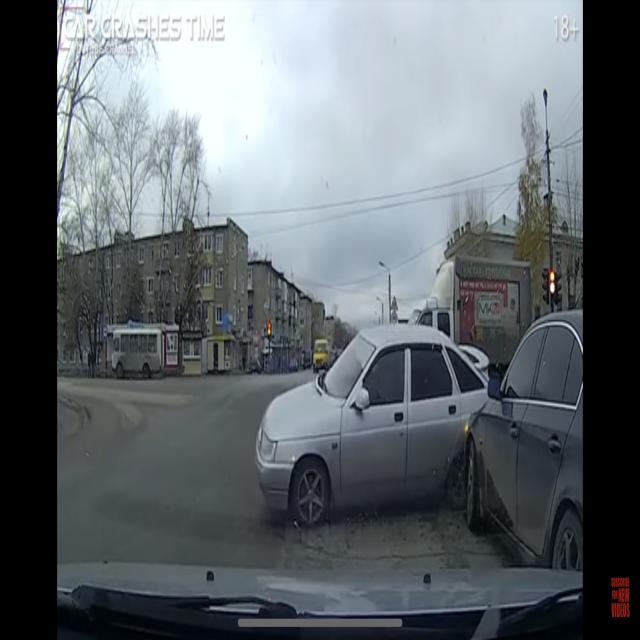accident: (230, 306, 593, 602)
